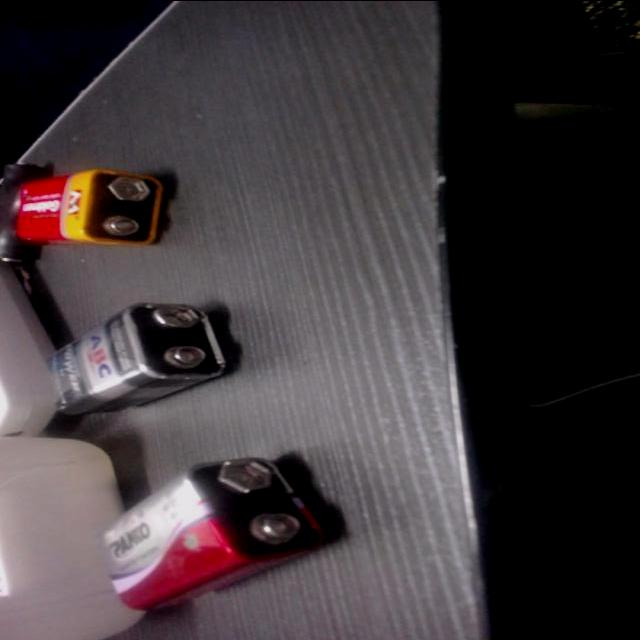9V: (82, 441, 338, 622), (41, 296, 242, 418), (3, 158, 209, 251)
